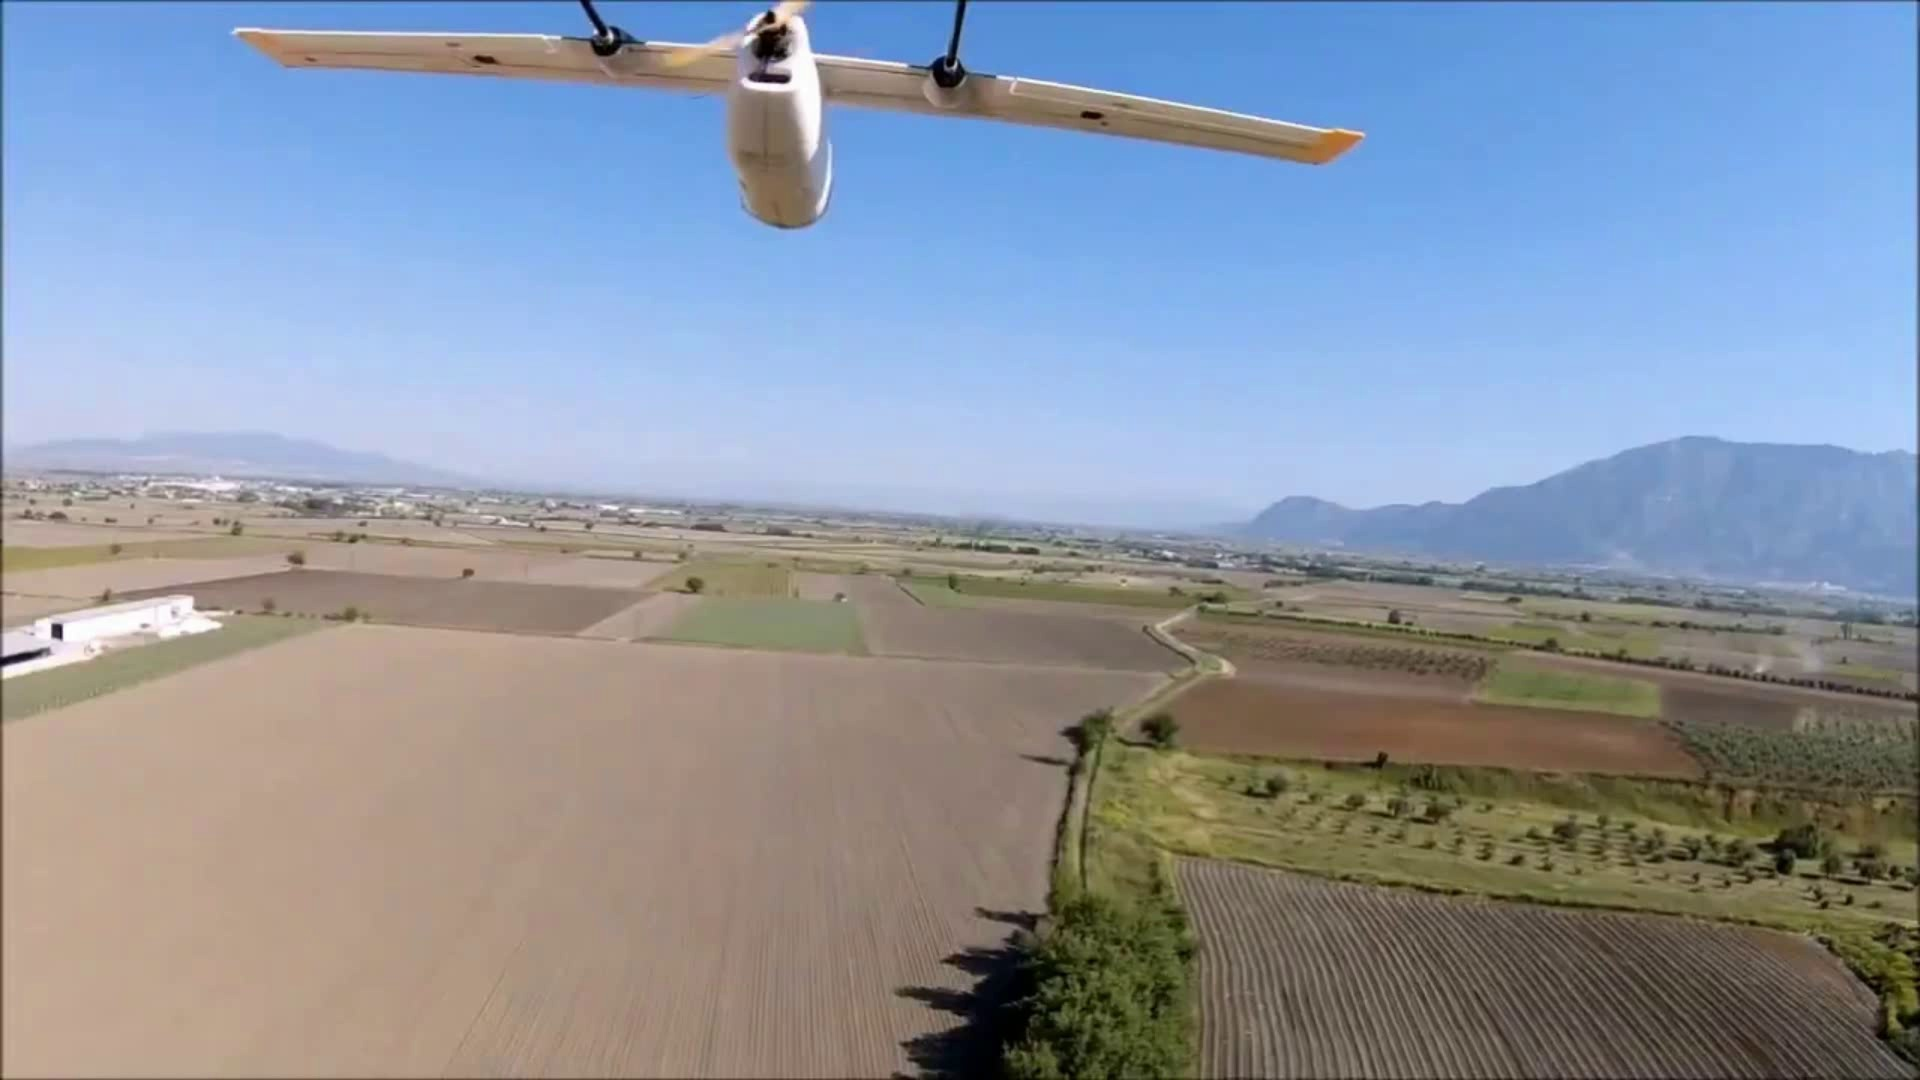airplane: (233, 3, 1358, 229)
